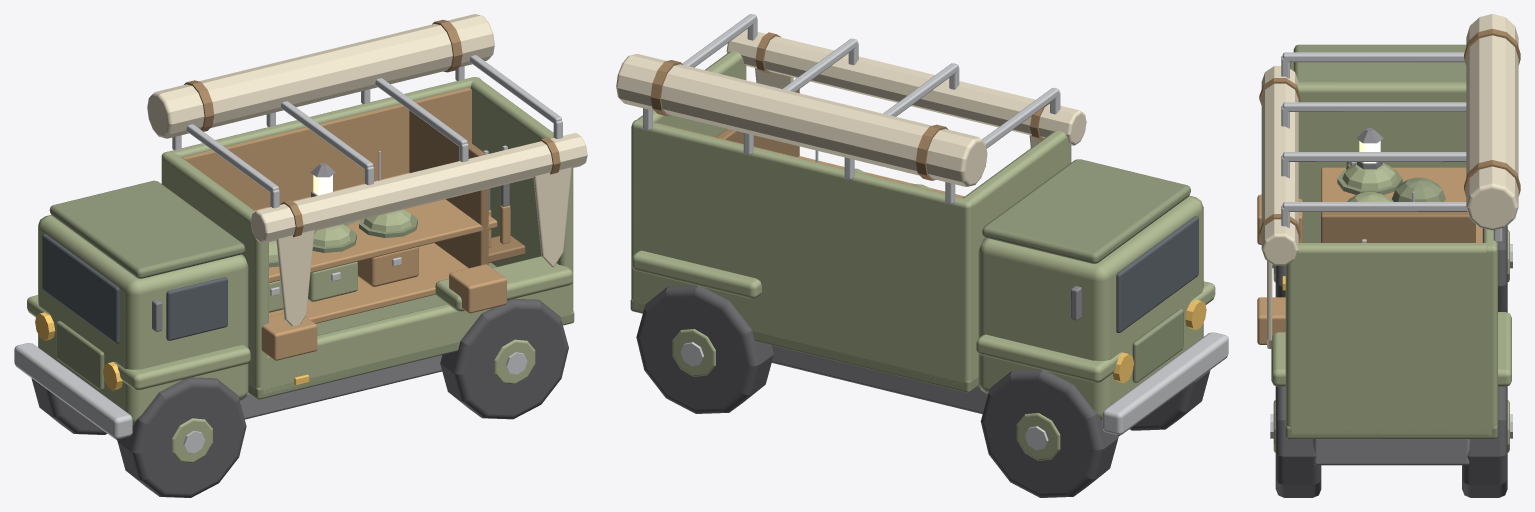
File: merchant_room_truck.glb
3 views of the same model, side by side, from view 1: azimuth 30°, elevation 25°; view 2: azimuth 150°, elevation 25°; view 3: azimuth 270°, elevation 25° (orthographic). The views are drawn at different scales.
Parts seen in each view (by area): view 1: MerchantShop; view 2: MerchantShop; view 3: MerchantShop.
Boxes of the visible parts, left/top/right/bottom form: MerchantShop: left=14, top=14, right=587, bottom=497; MerchantShop: left=616, top=14, right=1228, bottom=497; MerchantShop: left=1257, top=14, right=1520, bottom=497.
Size of the model in its own units: 5.36 by 3.5 by 2.42.
